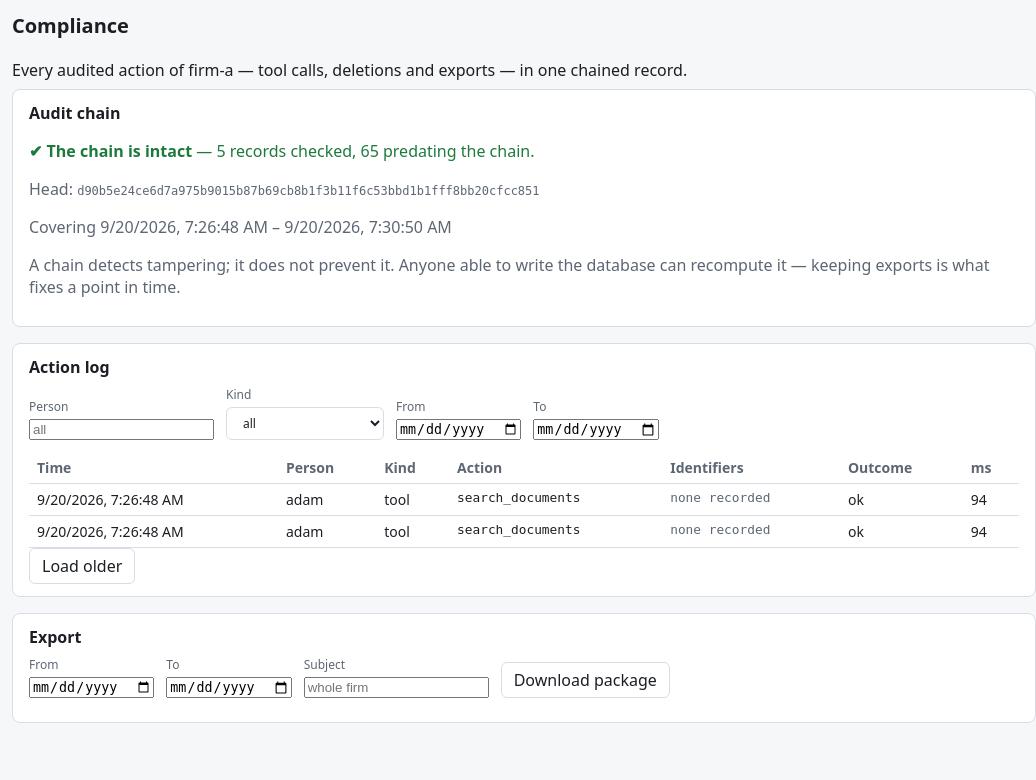
Test: CompliancePage › keeps "load older" after a filter is applied and cleared again
Expected: the table named "Actions" is shown, [29, 452, 1019, 548]
Expected: the button "Load older" is shown, [29, 548, 135, 584]
Type "adam" into the search field labelled "Person" at x=122, y=430, box [29, 419, 214, 440]
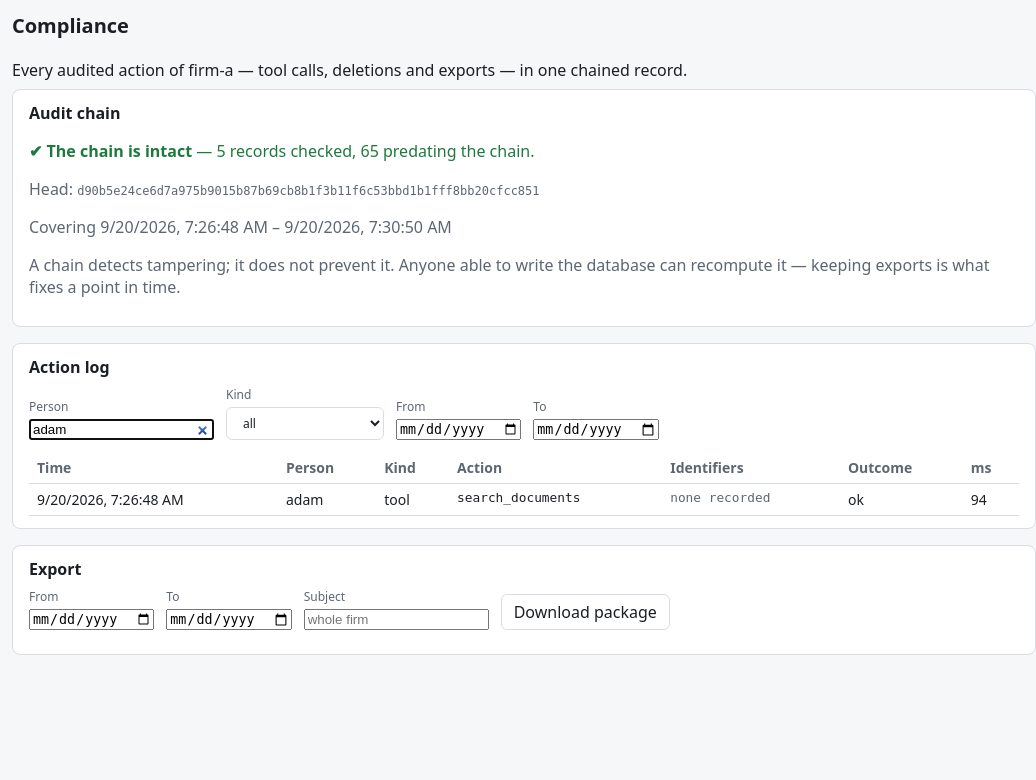
Expected: the button "Load older" is gone
Clear the search field labelled "Person" at x=122, y=430, box [29, 419, 214, 440]
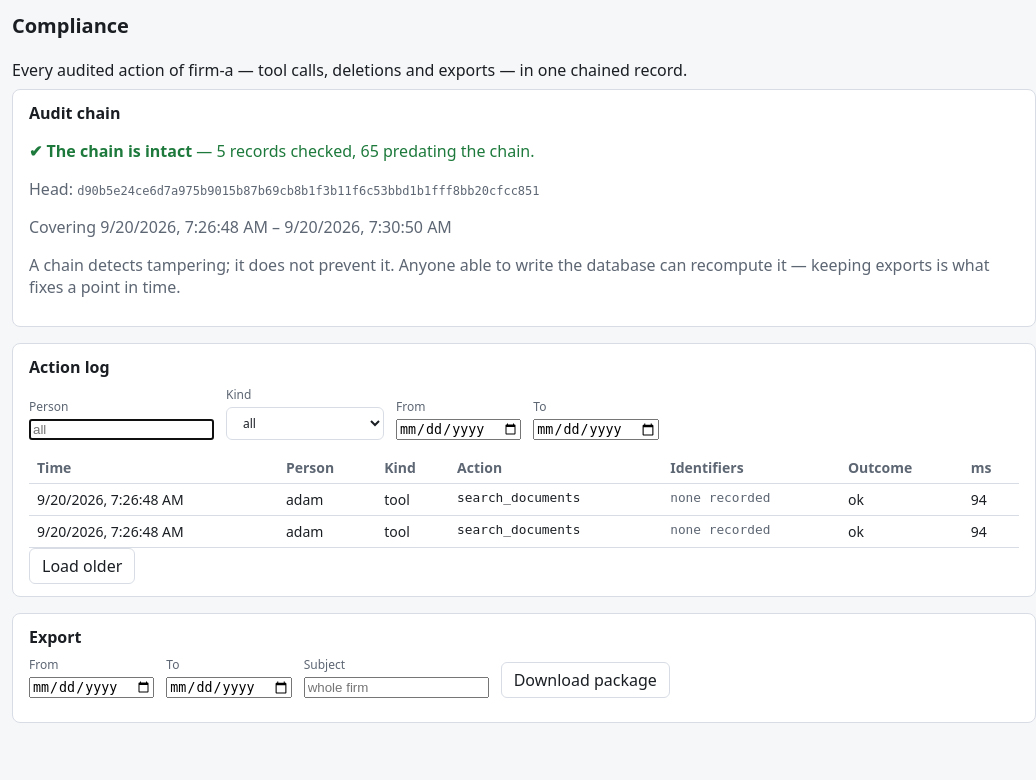
Expected: the button "Load older" is shown, [29, 548, 135, 584]
